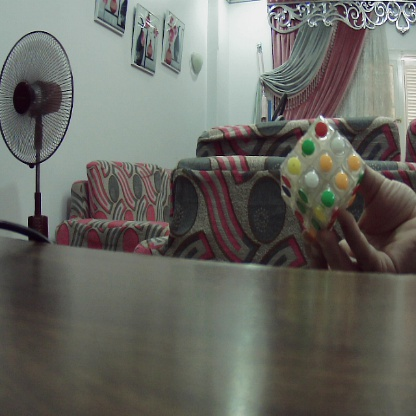Rubix Cube: (287, 134, 353, 217)
